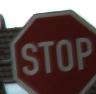Stop sign: (0, 0, 95, 93)
